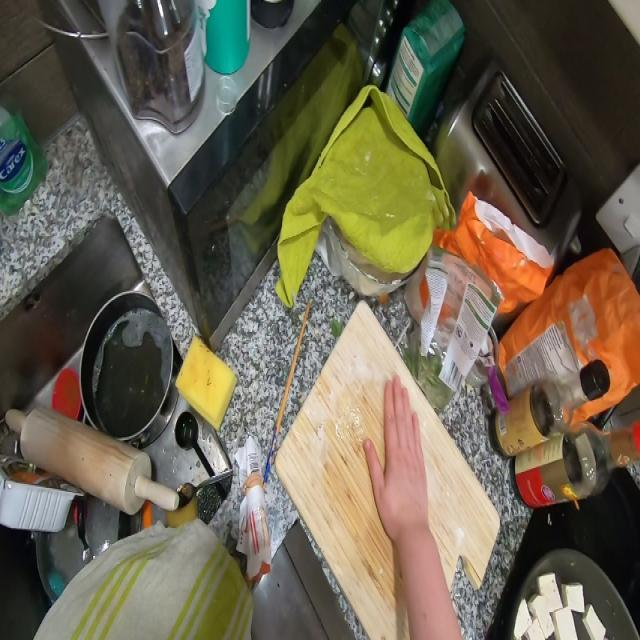cutting board: (273, 306, 498, 640)
pan: (81, 288, 175, 440)
right hand: (370, 367, 428, 581)
sponge: (178, 332, 238, 430)
spoon: (172, 408, 225, 512)
tofu: (536, 579, 614, 640)
